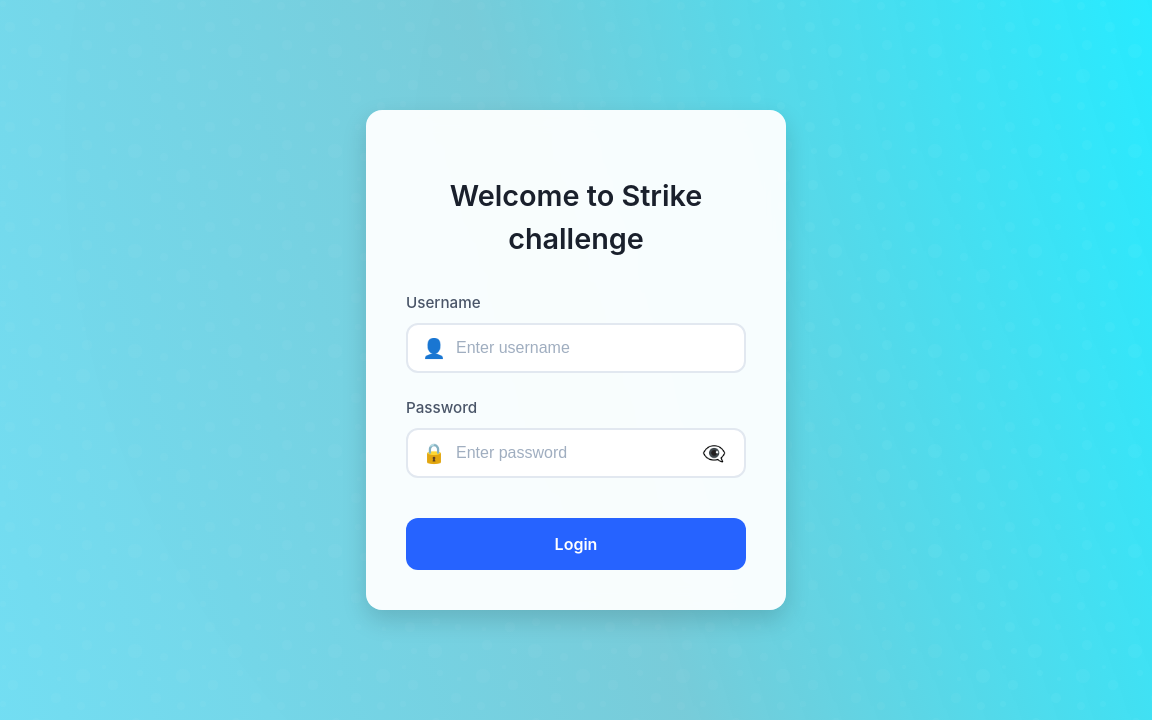
Test: LoginForm › handles login failure
Type "wronguser" into the field with placeholder "Enter username".
click(576, 348); type("wronguser")  # box [406, 323, 746, 373]
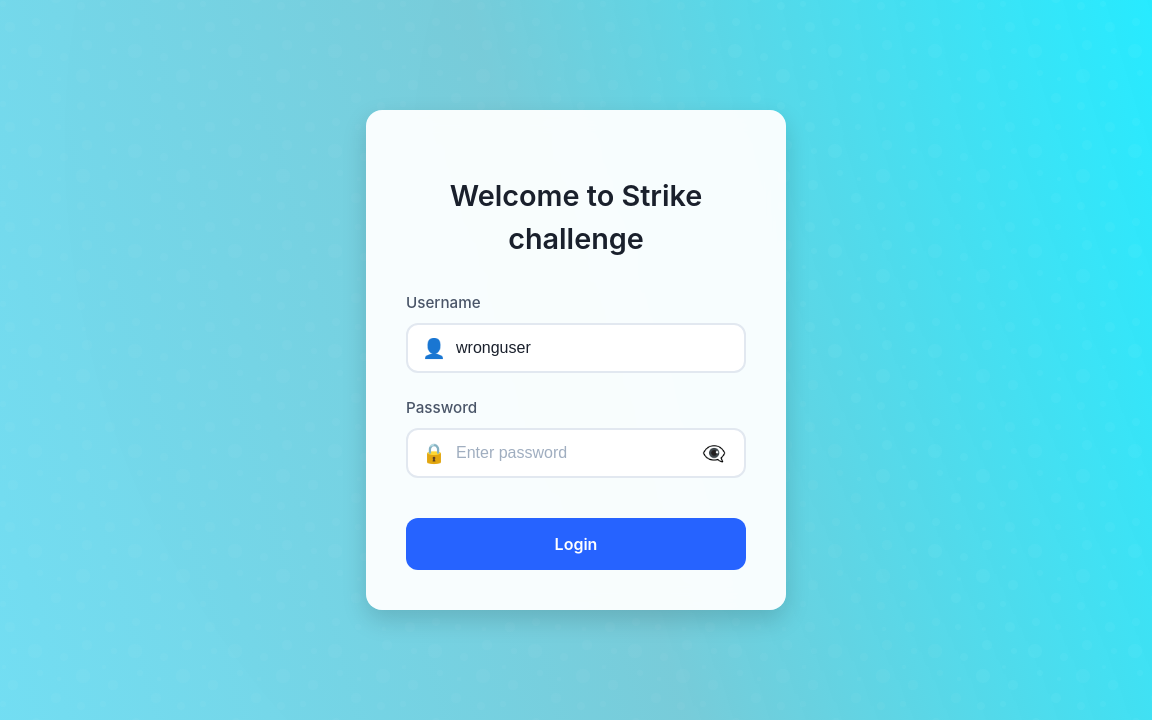
Type "wrongpass" into the password field with placeholder "Enter password".
click(576, 453); type("wrongpass")  # box [406, 428, 746, 478]
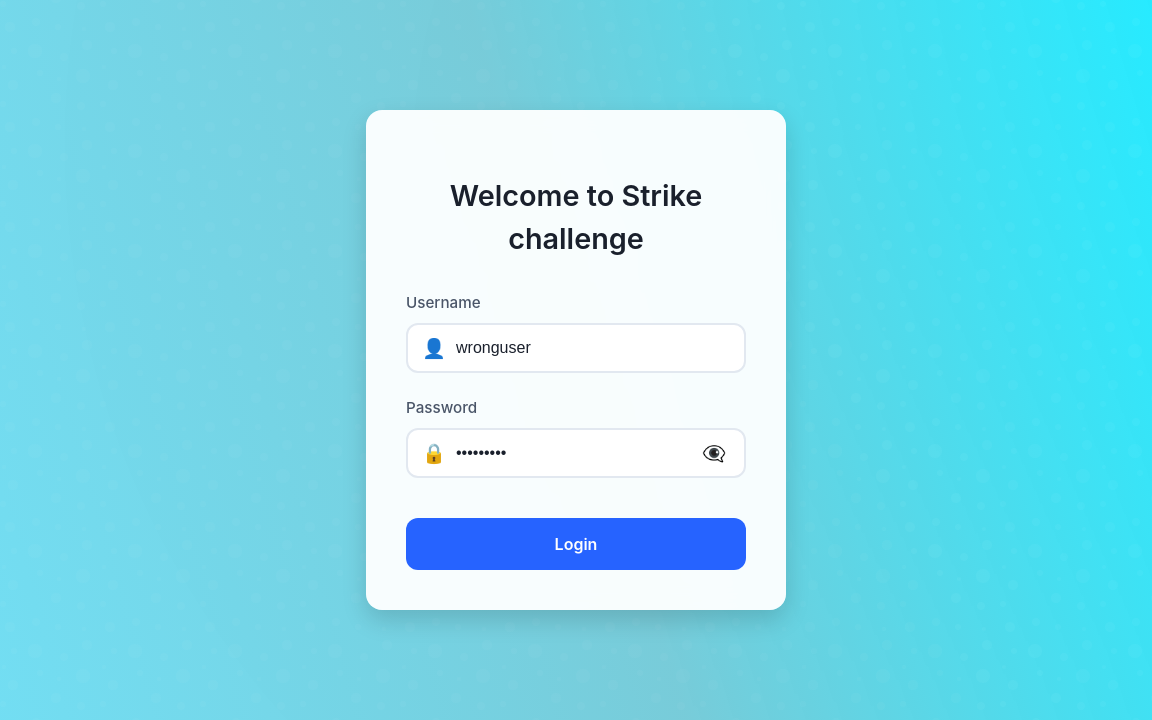
Click the button "Login".
click(576, 544)  # box [406, 518, 746, 570]
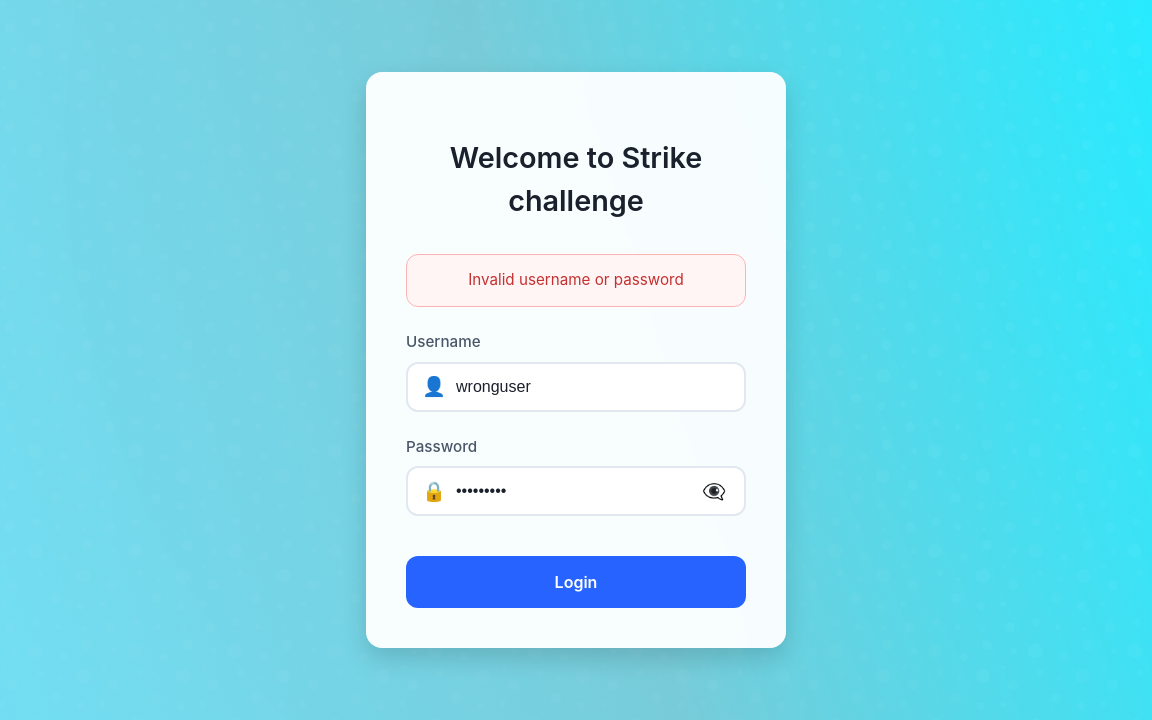
Expected: the text "Invalid username or password" is shown, [406, 254, 746, 307]
